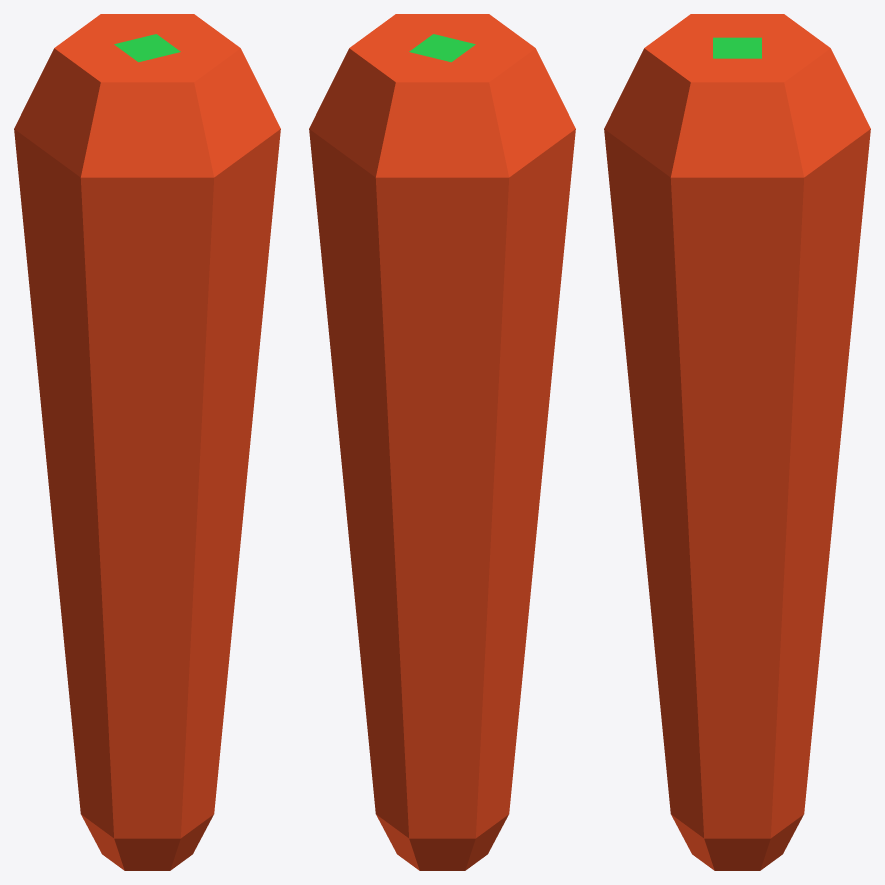
Rendered from CarrotSolid.fbx.
3 views of the same model, side by side, from view 1: azimuth 30°, elevation 25°; view 2: azimuth 150°, elevation 25°; view 3: azimuth 270°, elevation 25° (orthographic).
Parts seen in each view (by area): view 1: carrotSolid; view 2: carrotSolid; view 3: carrotSolid.
Boxes of the visible parts, <box> form: carrotSolid: <box>14,14,280,870</box>; carrotSolid: <box>309,14,575,870</box>; carrotSolid: <box>604,14,870,870</box>.
Size of the model in its own units: 17.06 by 65.66 by 19.7.
